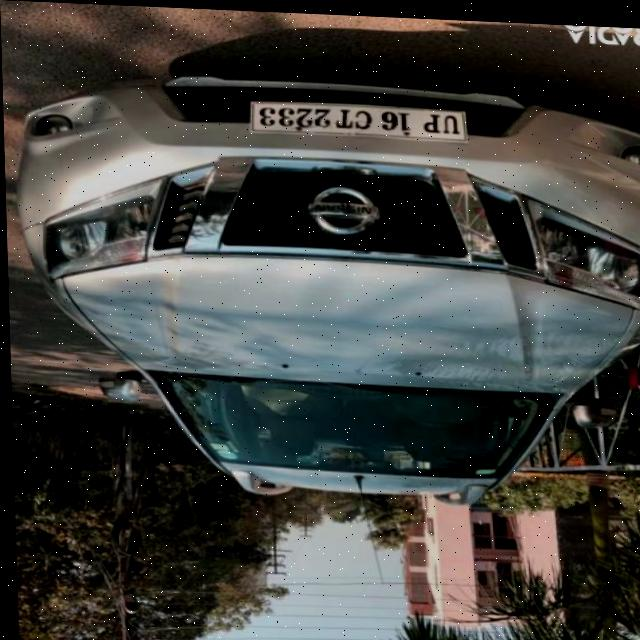plate: (251, 100, 466, 137)
